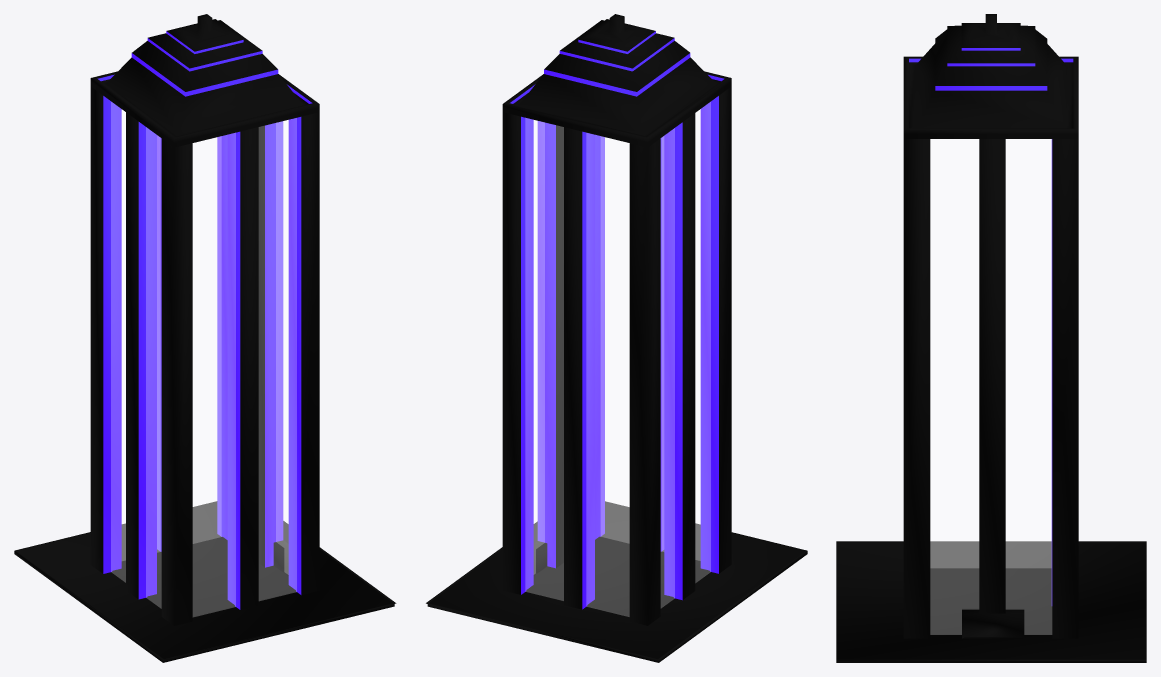
Rendered from building1.glb.
3 renders of one model, left to right at view 1: azimuth 30°, elevation 25°; view 2: azimuth 150°, elevation 25°; view 3: azimuth 270°, elevation 25°, orthographic. The views are drawn at different scales.
Visible parts, largest first — view 1: Old Building; view 2: Old Building; view 3: Old Building.
Part boxes in pixels (x1,y1,x2,y2): Old Building: [14, 14, 396, 662]; Old Building: [426, 14, 807, 662]; Old Building: [836, 14, 1146, 662].
Size of the model in its own units: 62.41 by 144 by 68.86.
